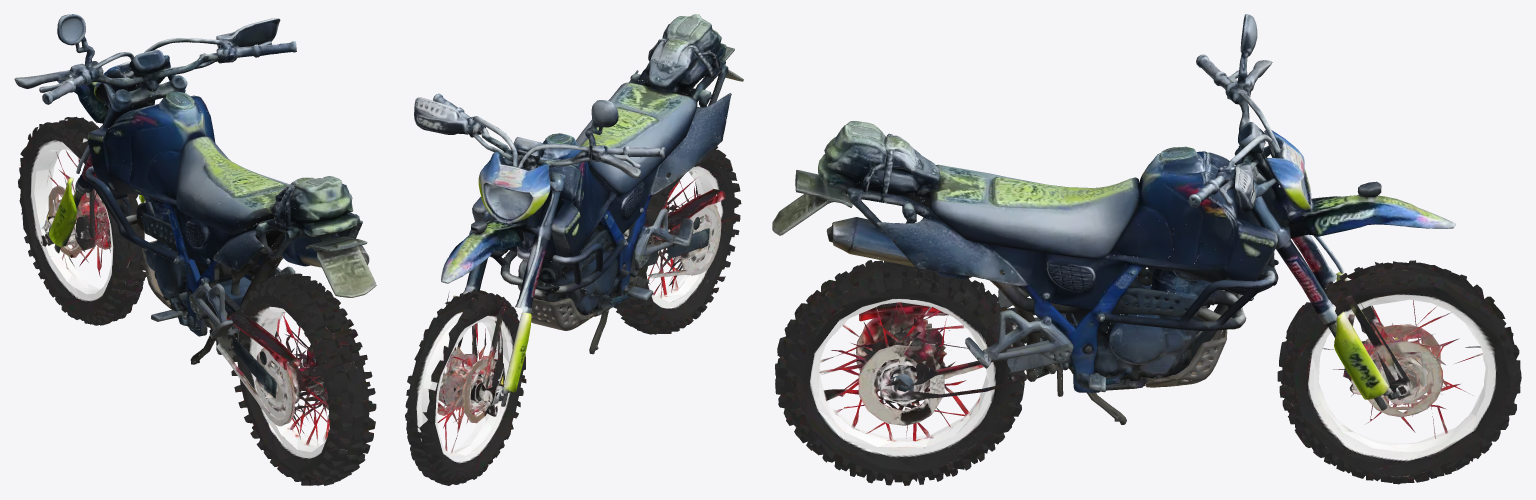
Rendered from bike_purcello.glb.
3 views of the same model, side by side, from view 1: azimuth 30°, elevation 25°; view 2: azimuth 150°, elevation 25°; view 3: azimuth 270°, elevation 25° (orthographic). The views are drawn at different scales.
Visible parts, largest first — view 1: bike_body, wheel_r, wheel_f; view 2: bike_body, wheel_f, wheel_r; view 3: bike_body, wheel_r, wheel_f.
Part boxes in pixels (<box>): bike_body: <box>14,14,376,398</box>; wheel_r: <box>216,273,376,485</box>; wheel_f: <box>18,116,146,325</box>; bike_body: <box>414,14,743,406</box>; wheel_f: <box>405,289,526,485</box>; wheel_r: <box>614,146,741,334</box>; bike_body: <box>772,14,1455,424</box>; wheel_r: <box>775,260,1027,485</box>; wheel_f: <box>1277,260,1521,484</box>.
Size of the model in its own units: 1.11 by 1.56 by 2.53.
2 materials, 2 textured.
